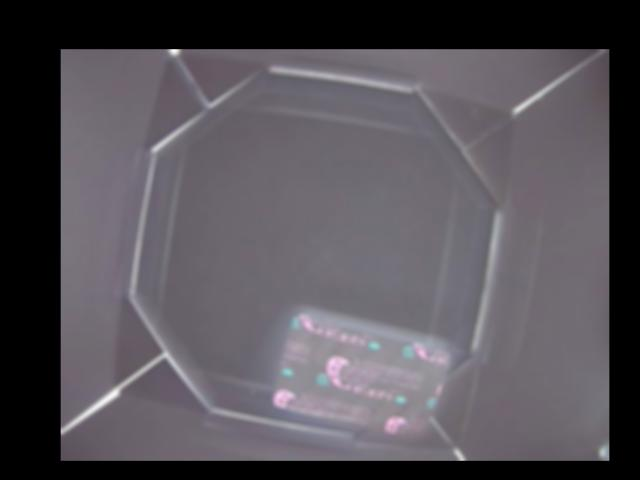Medicine: (269, 313, 449, 435)
